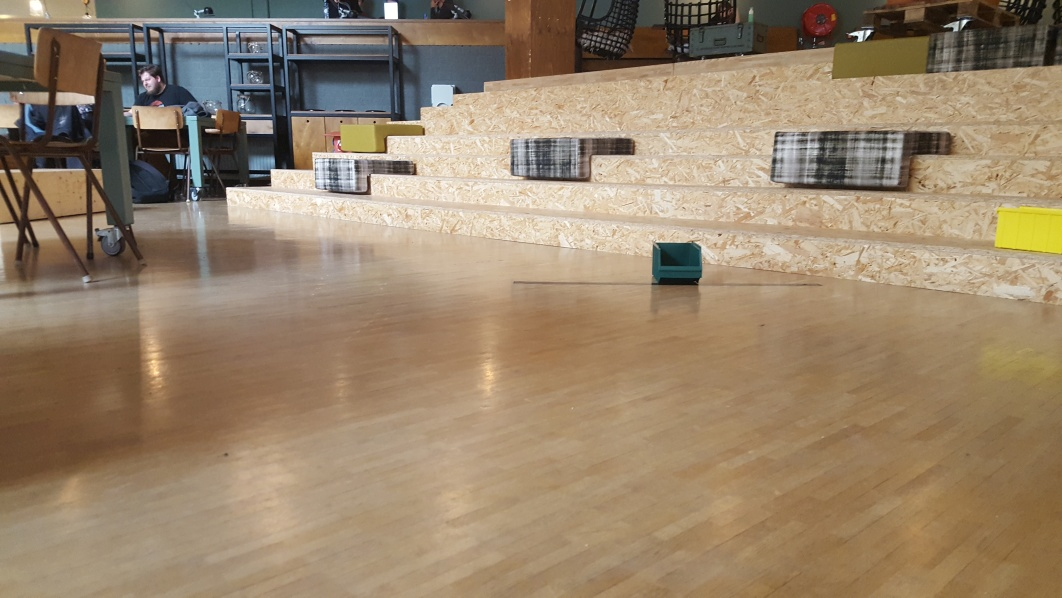tray: (987, 204, 1062, 254), (646, 240, 704, 287)
